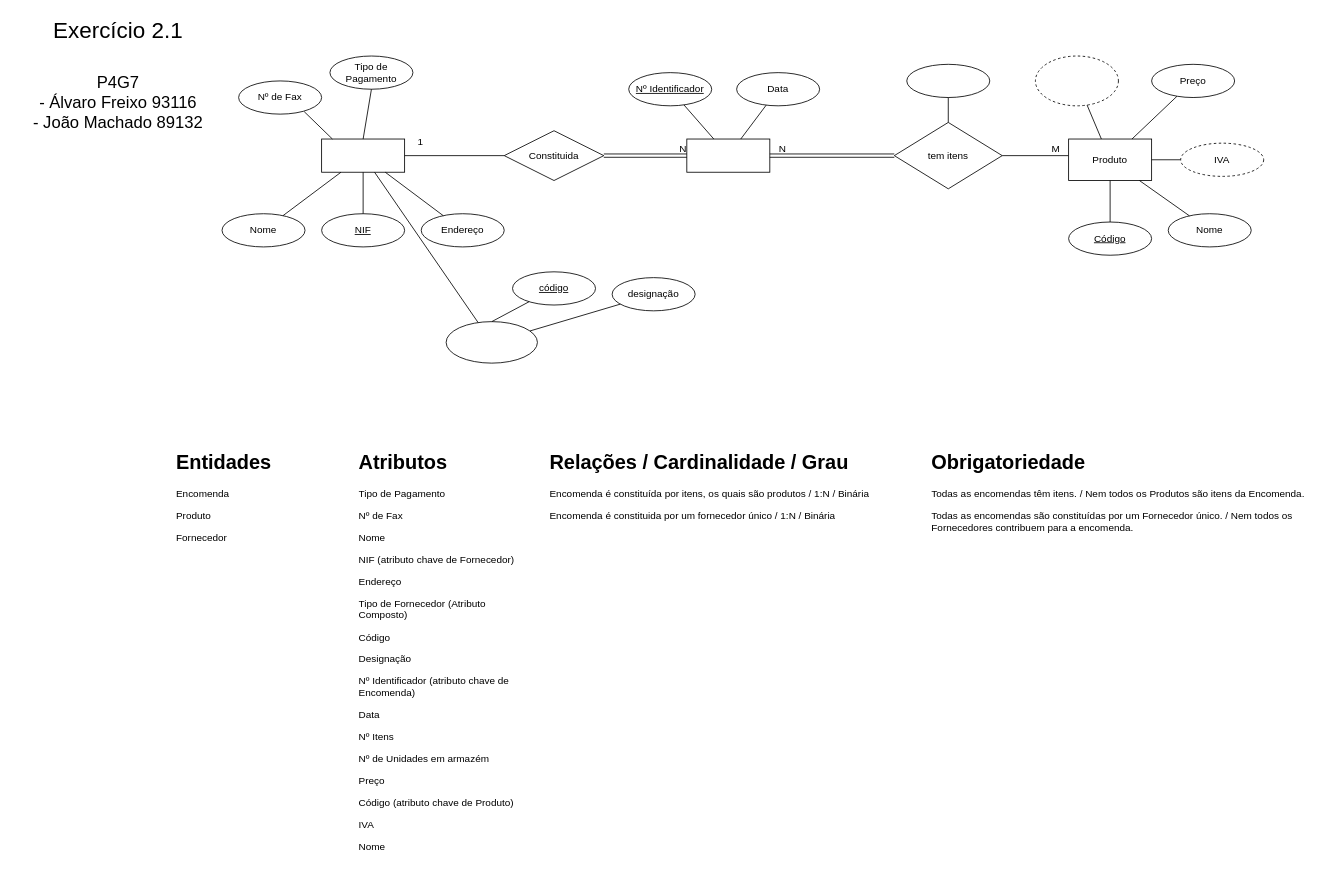
Some shapes in this 1340 by 891 pixel diagram are drawn without their labels. Here are the shapes that lost their labels. From the top down, the centre of each, then its label:
At point (948, 80): "Nº Itens".
At point (1076, 80): "Nº de unidades em armazém".
At point (363, 155): "Fornecedor".
At point (728, 155): "Encomenda".
At point (491, 342): "Tipo Fornecedor".
